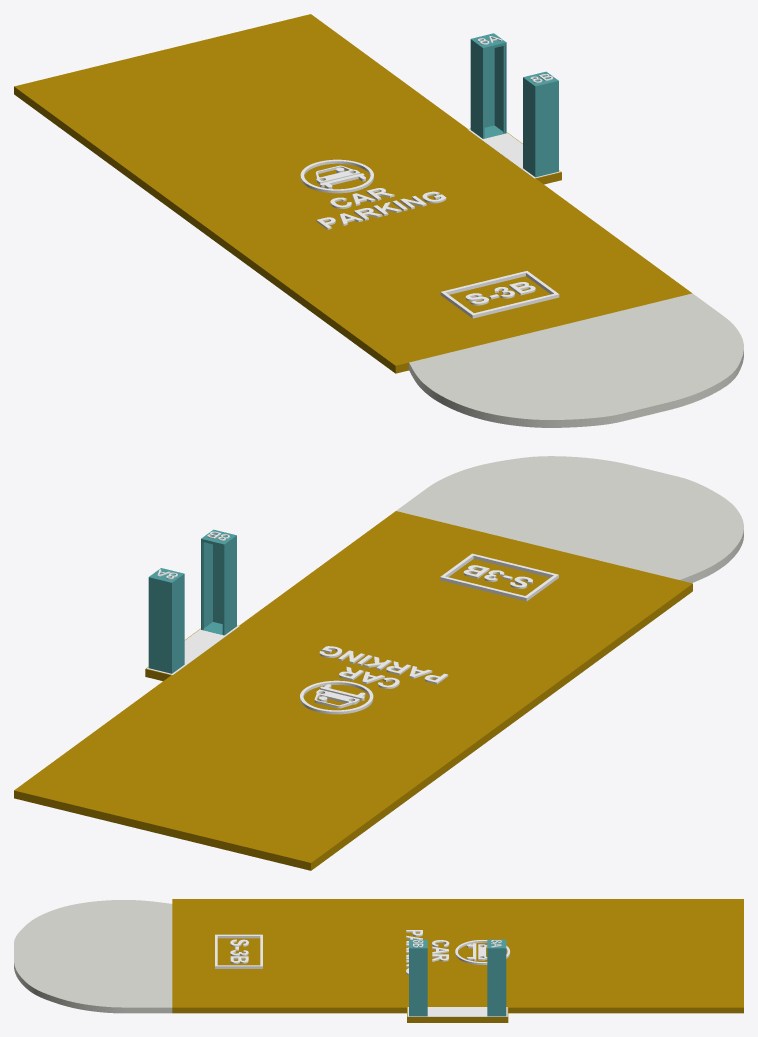
3 renders of one model, top to bottom at view 1: azimuth 30°, elevation 25°; view 2: azimuth 150°, elevation 25°; view 3: azimuth 270°, elevation 25°, orthographic. The views are drawn at different scales.
Parts seen in each view (by area): view 1: Line1008, Shape006, Rectangle363, Rectangle435, Text175, WRectangle004, Line1019, Donut046, Text176; view 2: Line1008, Shape006, Rectangle363, Rectangle435, Text175, WRectangle004, Line1019, Donut046; view 3: Line1008, Shape006, Rectangle363, Rectangle435, Line1019, Line1011, WRectangle004, Text175, Text176, Donut046.
Boxes of the visible parts, <box> form: Line1008: <box>14,14,691,373</box>; Shape006: <box>409,293,743,427</box>; Rectangle363: <box>470,33,506,138</box>; Rectangle435: <box>523,71,558,177</box>; Text175: <box>316,188,446,229</box>; WRectangle004: <box>440,271,559,318</box>; Line1019: <box>468,129,560,178</box>; Donut046: <box>300,159,373,193</box>; Text176: <box>465,282,535,305</box>; Line1008: <box>14,511,692,870</box>; Shape006: <box>396,456,743,582</box>; Rectangle363: <box>148,568,184,673</box>; Rectangle435: <box>201,529,236,635</box>; Text175: <box>319,646,448,688</box>; WRectangle004: <box>440,553,558,601</box>; Line1019: <box>146,625,239,675</box>; Donut046: <box>300,680,373,714</box>; Line1008: <box>172,899,743,1013</box>; Shape006: <box>14,900,172,1013</box>; Rectangle363: <box>487,939,506,1016</box>; Rectangle435: <box>409,939,427,1016</box>; Line1019: <box>407,1007,507,1016</box>; Line1011: <box>407,1007,508,1022</box>; WRectangle004: <box>215,934,262,968</box>; Text175: <box>406,930,449,975</box>; Text176: <box>230,939,248,963</box>; Donut046: <box>455,940,510,964</box>.
Size of the model in its own units: 20.16 by 5.96 by 52.69.
